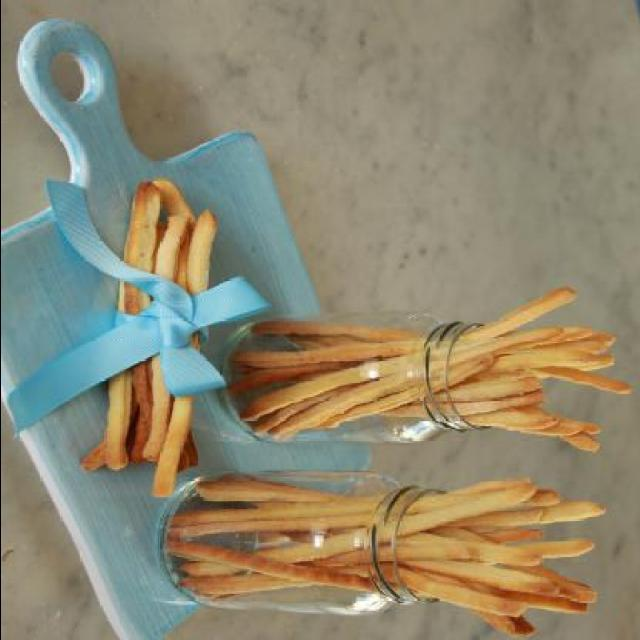Grissini: (193, 478, 593, 620), (266, 288, 626, 444)
